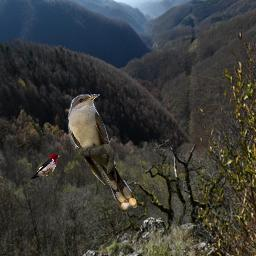Cuckoo: (68, 94, 137, 210)
Woodpecker: (28, 153, 62, 179)
